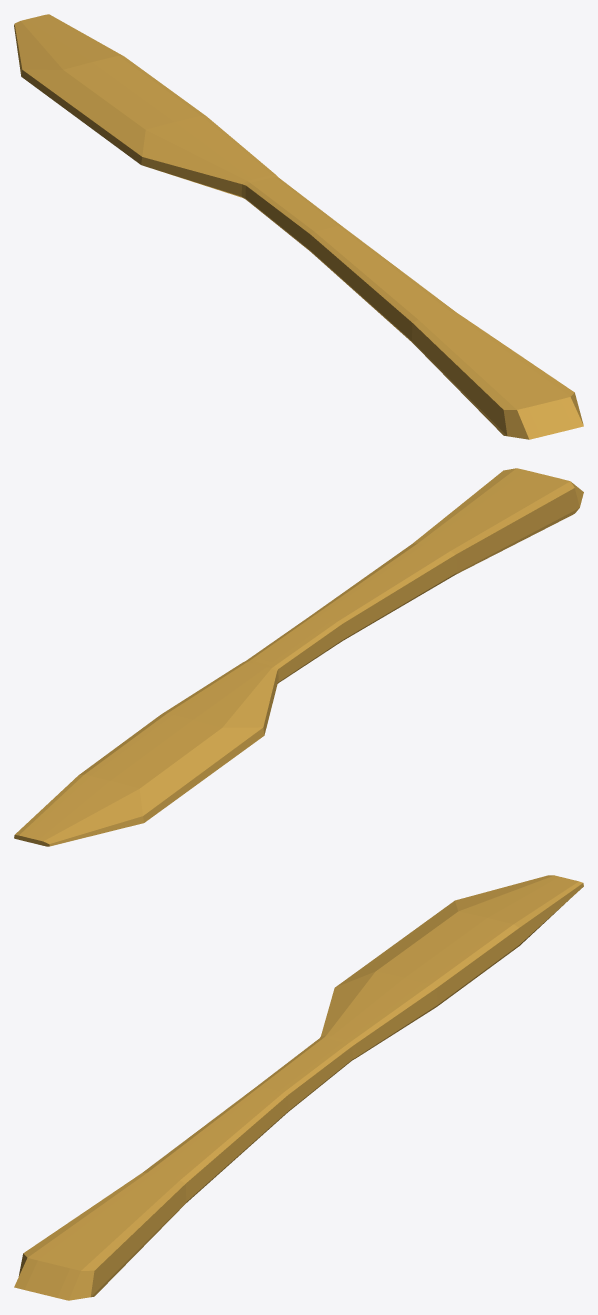
The model's file is jadalnia_nóż.fbx.
3 renders of one model, top to bottom at view 1: azimuth 30°, elevation 25°; view 2: azimuth 150°, elevation 25°; view 3: azimuth 330°, elevation 25°, orthographic.
Parts seen in each view (by area): view 1: Plane; view 2: Plane; view 3: Plane.
Boxes of the visible parts, <box> form: Plane: <box>14,14,583,439</box>; Plane: <box>14,468,583,846</box>; Plane: <box>14,875,583,1300</box>.
Size of the model in its own units: 1.62 by 0.7481 by 14.97.
